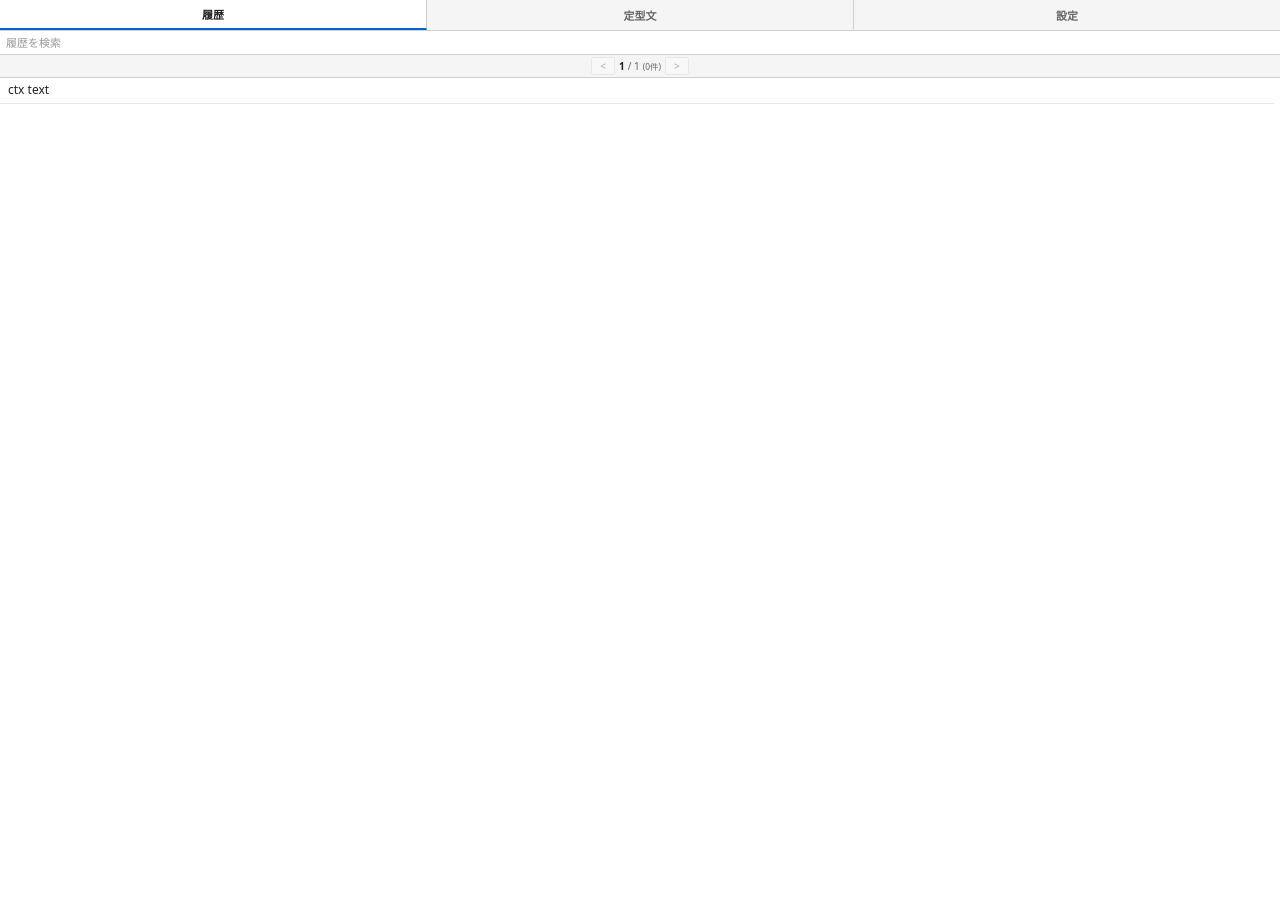
Test: PopupWindow › context menu › clicking 編集 opens the edit dialog
Right-click the button "ctx text" at x=29, y=90, box [0, 78, 1274, 104]
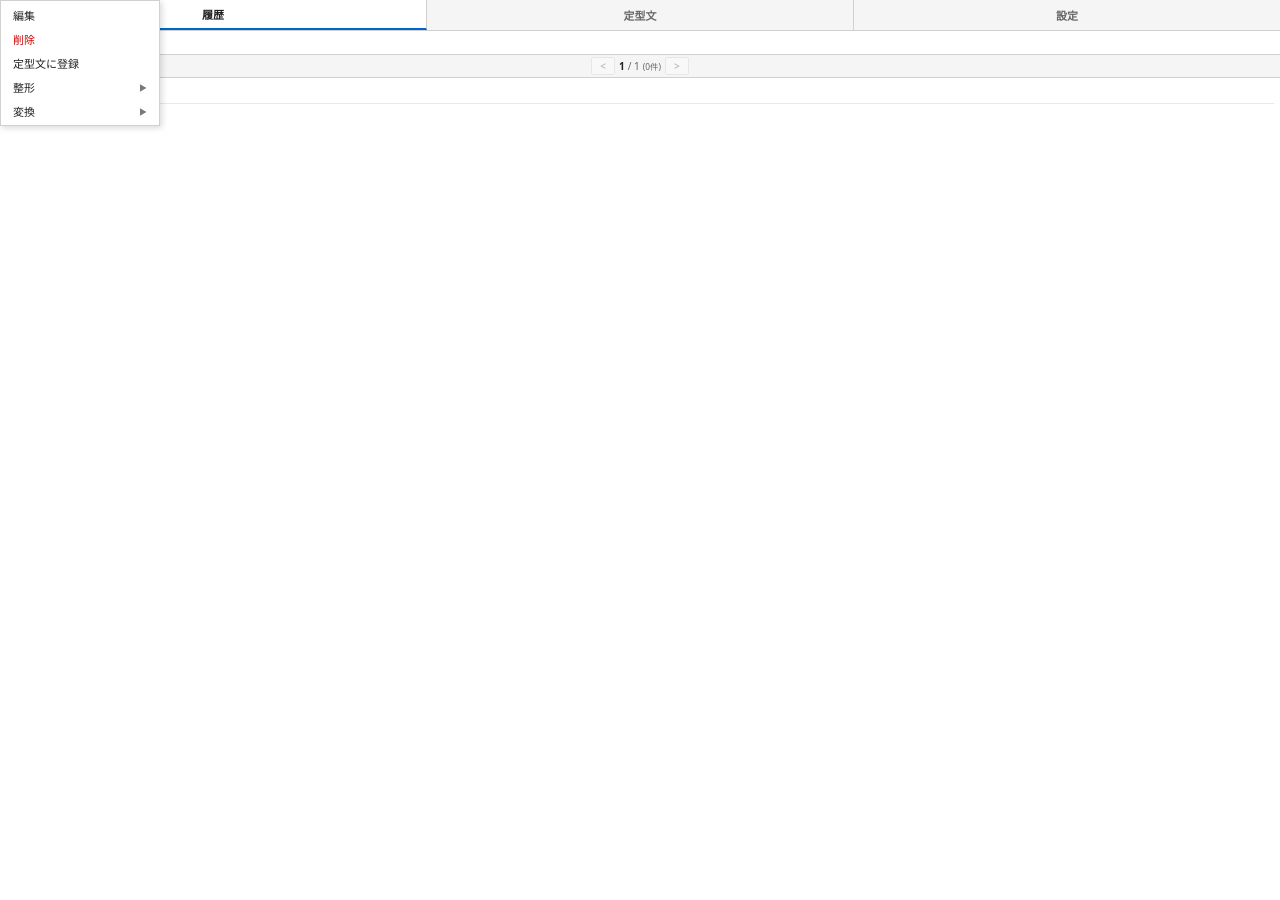
Click the button "編集" at x=80, y=15, box [1, 3, 159, 27]
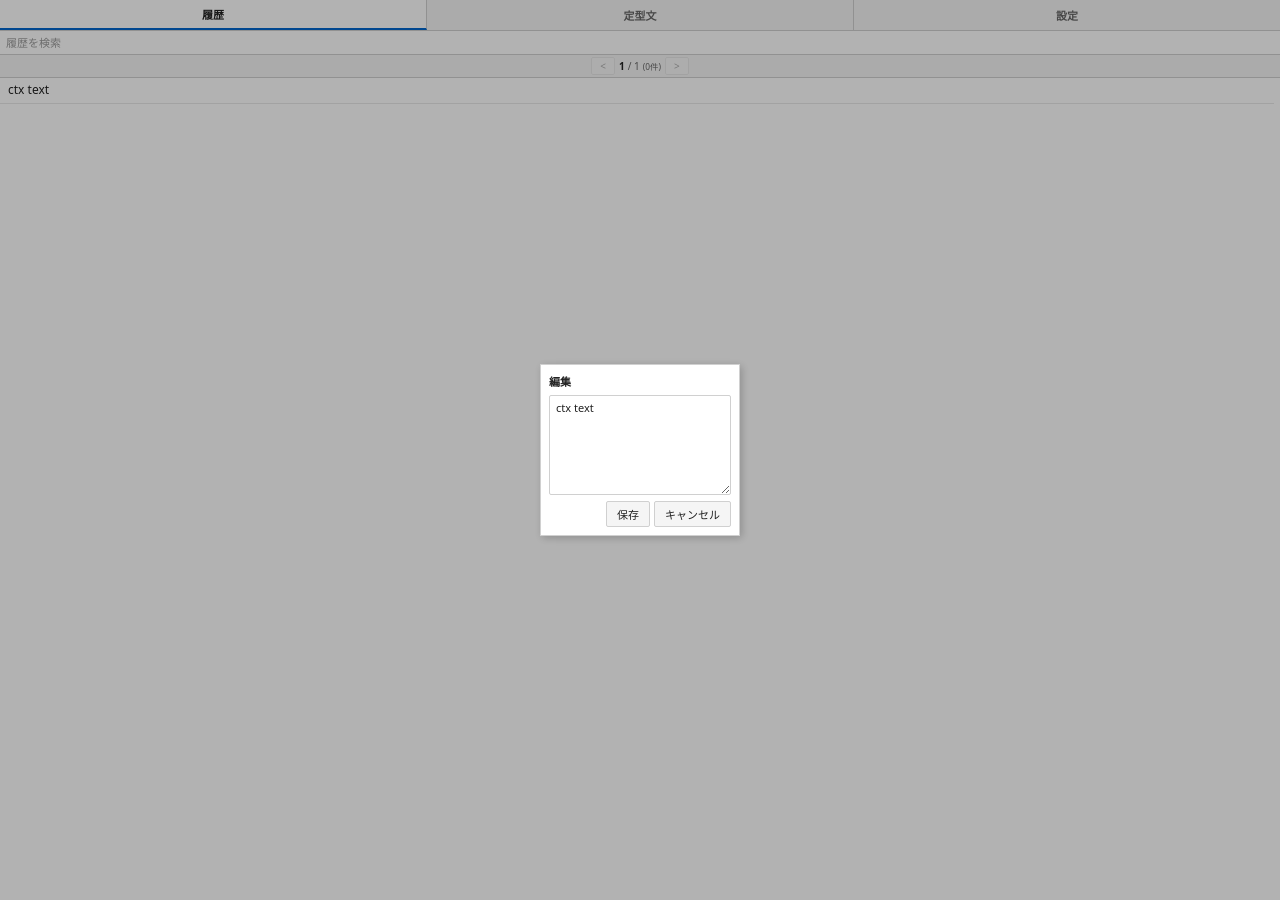
Result: the text "編集" is shown at [549, 374, 571, 389]
Result: the text box holds "ctx text" at [549, 395, 731, 495]
